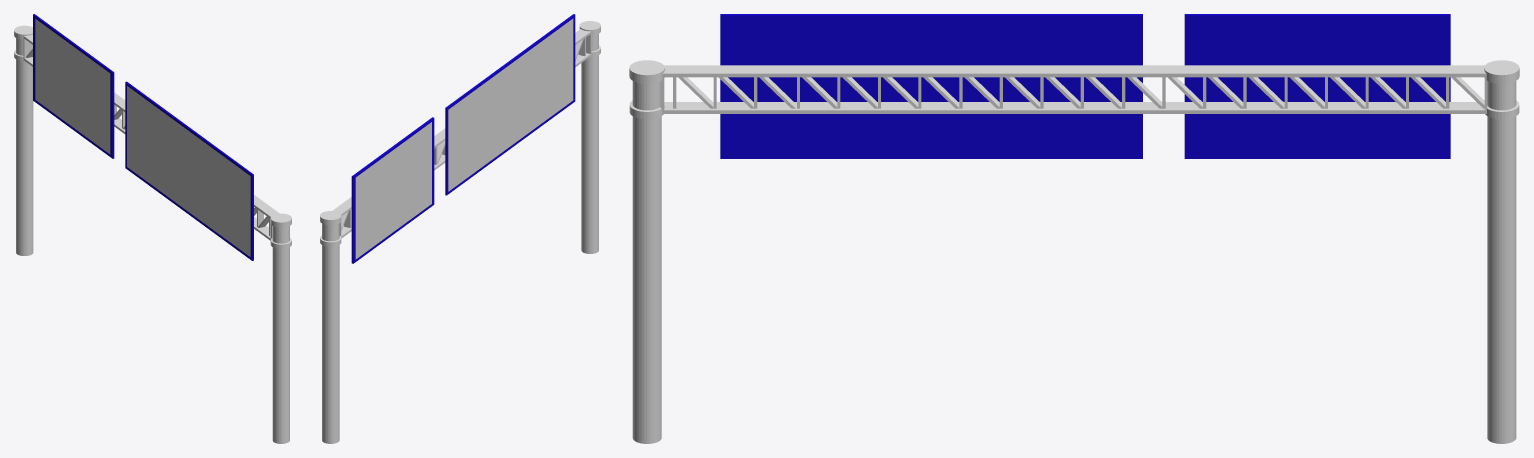
File: Road Sign 1.fbx
3 views of the same model, side by side, from view 1: azimuth 30°, elevation 25°; view 2: azimuth 150°, elevation 25°; view 3: azimuth 270°, elevation 25° (orthographic). The views are drawn at different scales.
Visible parts, largest first — view 1: Cube.002, Cube, Cube.001; view 2: Cube.002, Cube, Cube.001; view 3: Cube, Cube.002, Cube.001.
Boxes of the visible parts, x1=… form: Cube.002: x1=125, y1=81, x2=253, y2=260; Cube: x1=14, y1=25, x2=291, y2=443; Cube.001: x1=33, y1=14, x2=114, y2=158; Cube.002: x1=445, y1=14, x2=575, y2=195; Cube: x1=320, y1=21, x2=600, y2=443; Cube.001: x1=351, y1=117, x2=434, y2=263; Cube: x1=629, y1=60, x2=1519, y2=443; Cube.002: x1=720, y1=14, x2=1142, y2=158; Cube.001: x1=1184, y1=14, x2=1450, y2=158.
Bounding box in the file's own units: 83.67 × 1088 × 2100.
